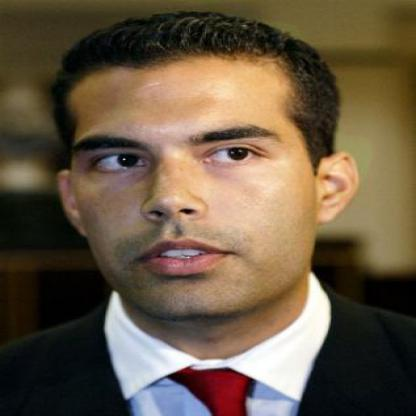face: (64, 40, 319, 321)
